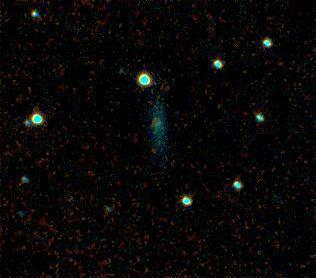star: (138, 133, 168, 163)
